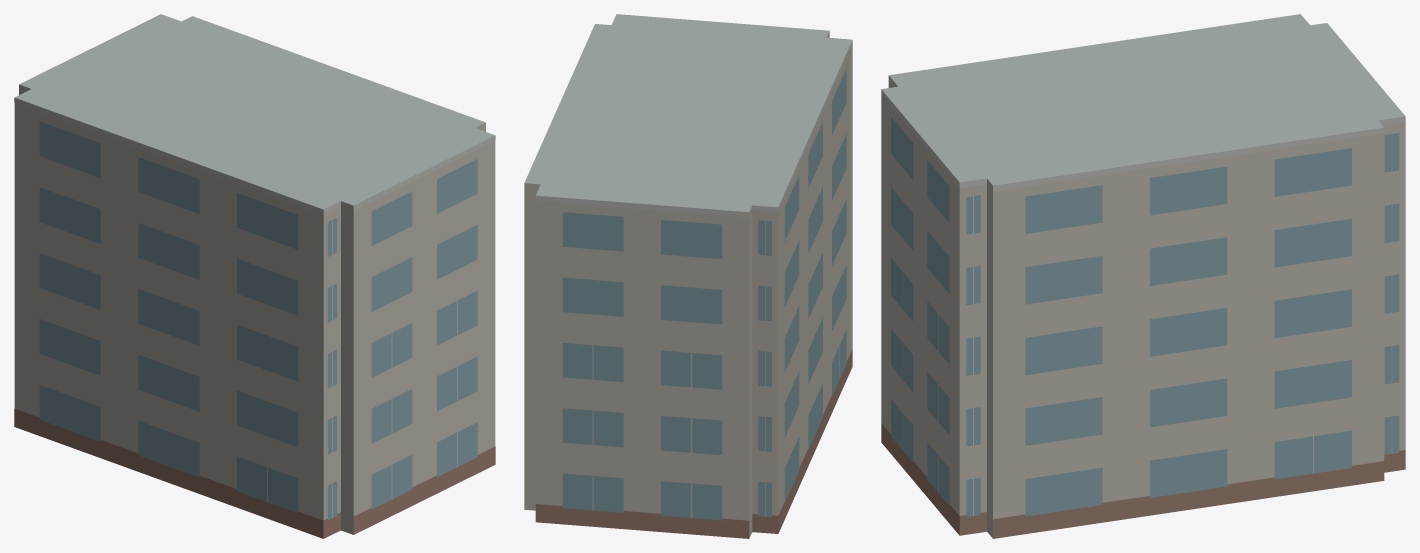
The model's file is survey-upis-32983689.glb.
The picture shows the model from 3 angles, left to right: view 1: azimuth 30°, elevation 25°; view 2: azimuth 150°, elevation 25°; view 3: azimuth 270°, elevation 25°; orthographic projection. The views are drawn at different scales.
Parts seen in each view (by area): view 1: survey-upis-32983689.tmp; view 2: survey-upis-32983689.tmp; view 3: survey-upis-32983689.tmp.
Boxes of the visible parts, x1=… form: survey-upis-32983689.tmp: x1=14, y1=14, x2=495, y2=538; survey-upis-32983689.tmp: x1=524, y1=14, x2=852, y2=538; survey-upis-32983689.tmp: x1=881, y1=14, x2=1405, y2=538.
Bounding box in the file's own units: 15.75 × 15.1 × 20.33.
